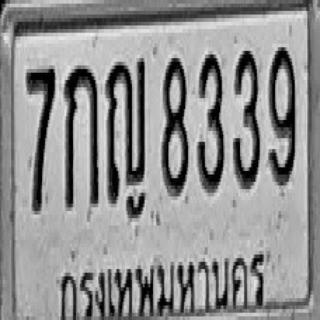A01: (63, 62, 98, 207)
A13: (105, 56, 146, 202)
N03: (233, 47, 260, 189), (197, 51, 224, 193)
N07: (26, 65, 56, 211)
N08: (161, 55, 188, 196)
N09: (269, 44, 295, 185)
P04: (51, 234, 270, 320)
